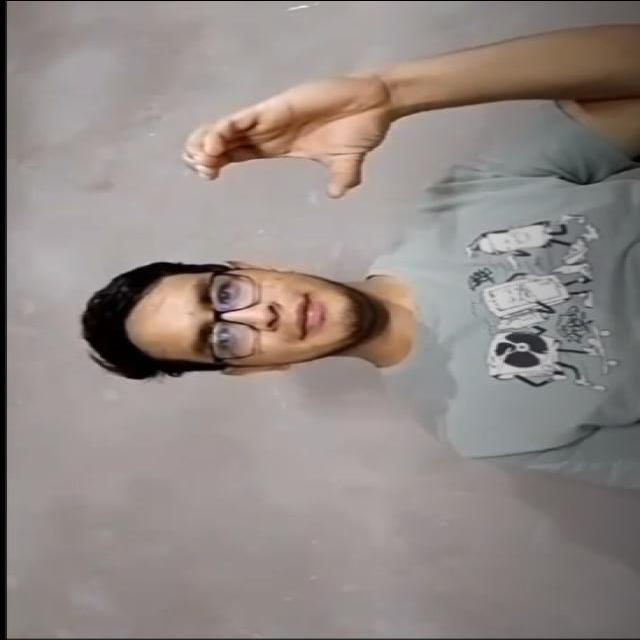C: (170, 62, 410, 204)
